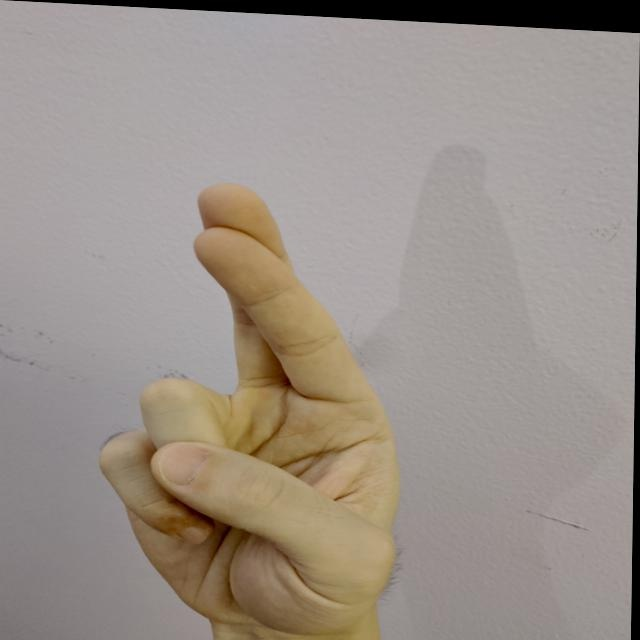R: (88, 167, 418, 635)
